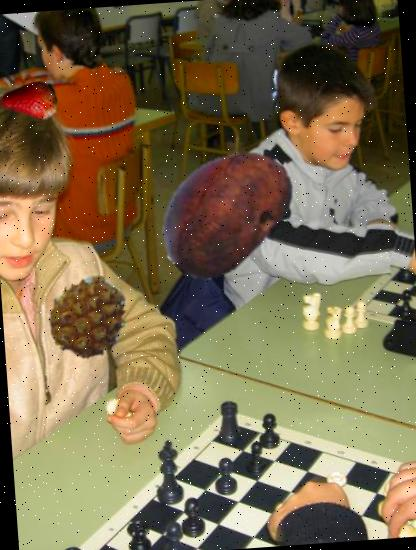Chestnut: (146, 132, 302, 288)
Pineapple: (44, 272, 132, 362)
Strawberry: (0, 73, 58, 132)
